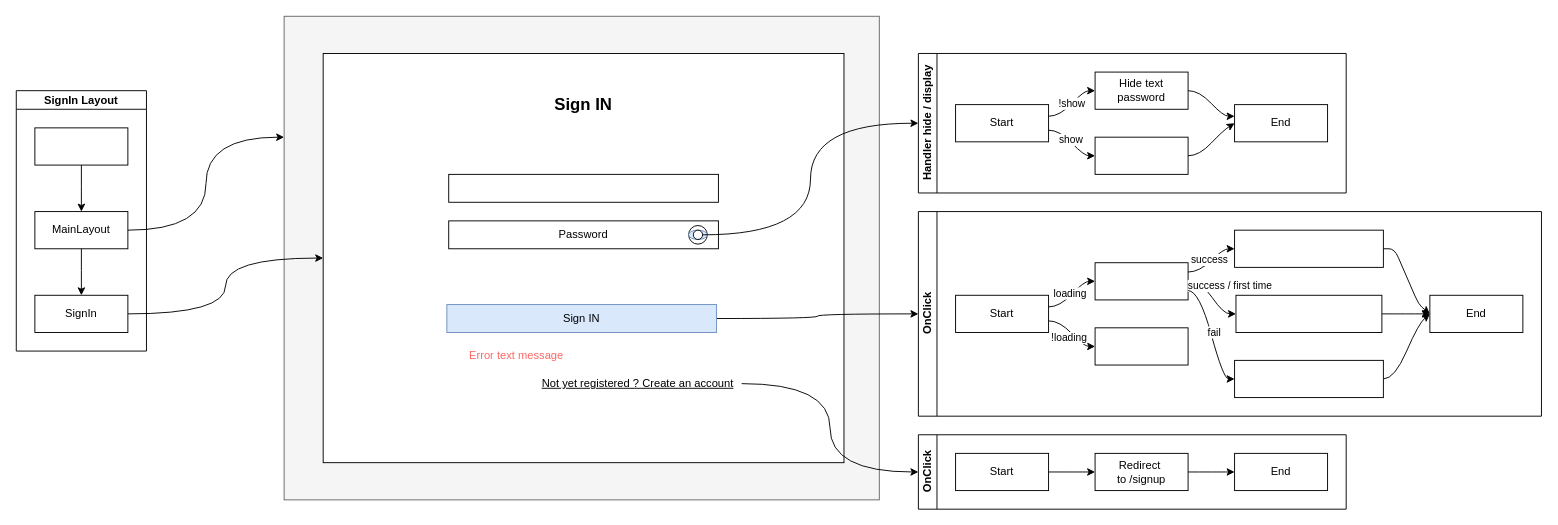
The diagram is 1558 pixels wide and 525 high, and some of its shapes have lost their labels. Each missing label, with the centre of its shape:
"Display errors" goes at [1308,378].
"Display text password" goes at [1141,155].
"Email" goes at [583,187].
"Redirect to /home" goes at [1308,248].
"Redirect to /user/create" goes at [1308,313].
"Show button without loader" goes at [1141,346].
"Show loader min 2sec" goes at [1141,281].
"SignInPage" goes at [81,146].
